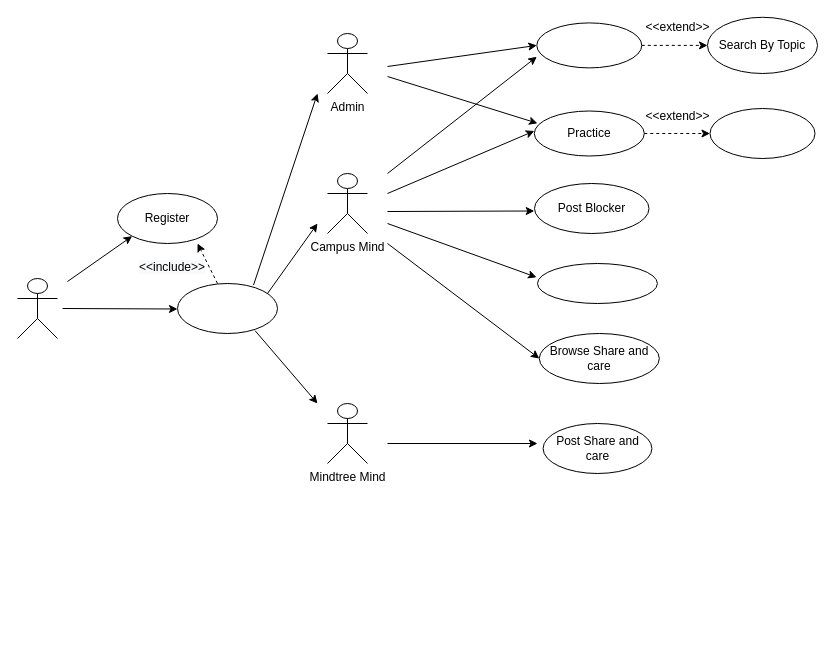
Image size: 835x661. Some labels were removed from this diagram. Each missing label, with the centre of its shape:
"Learning" belongs at (589,45).
"Login" belongs at (227,308).
"Problems" belongs at (762,133).
"Profile" belongs at (596,283).
"User" belongs at (37,308).
